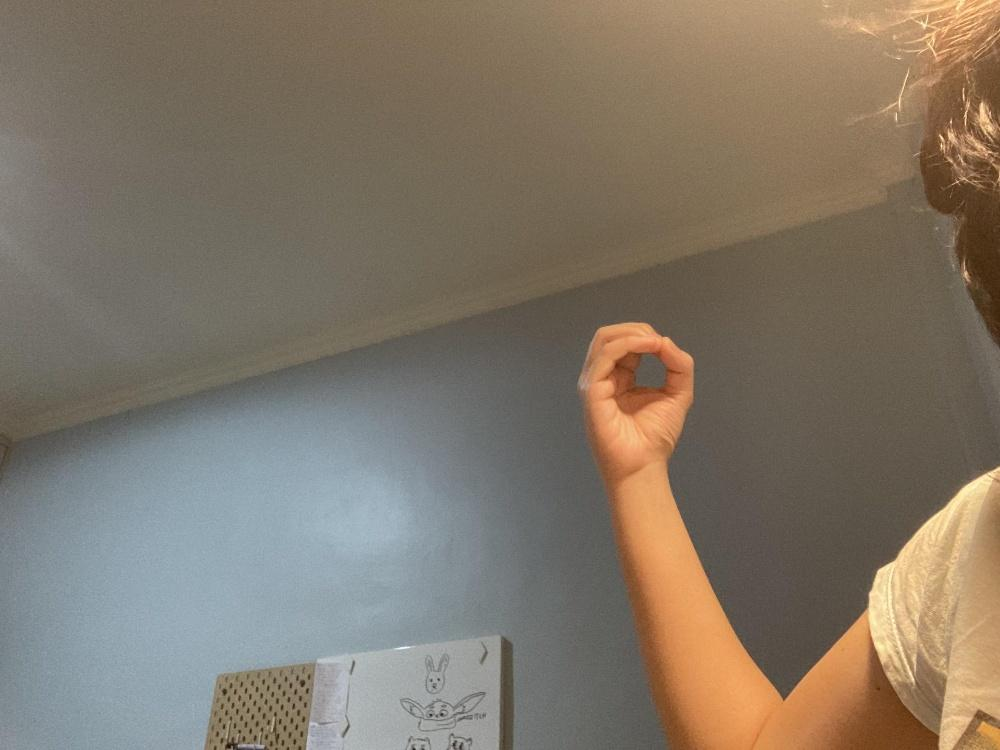o: (575, 321, 693, 481)
